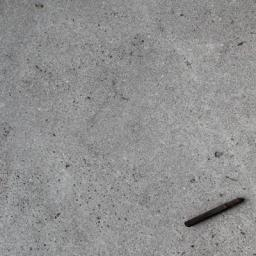FOD: (183, 195, 250, 231)
